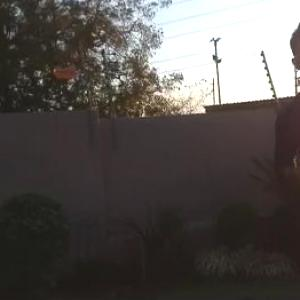follow: (268, 16, 300, 299)
